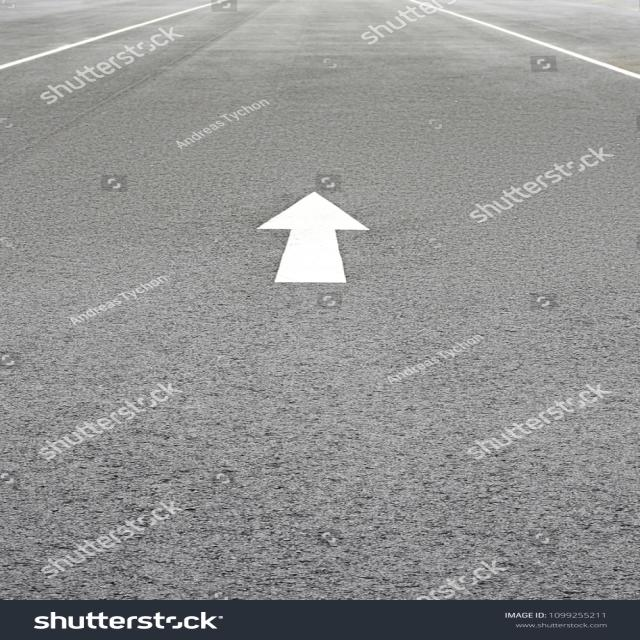road_oneway: (260, 192, 371, 287)
